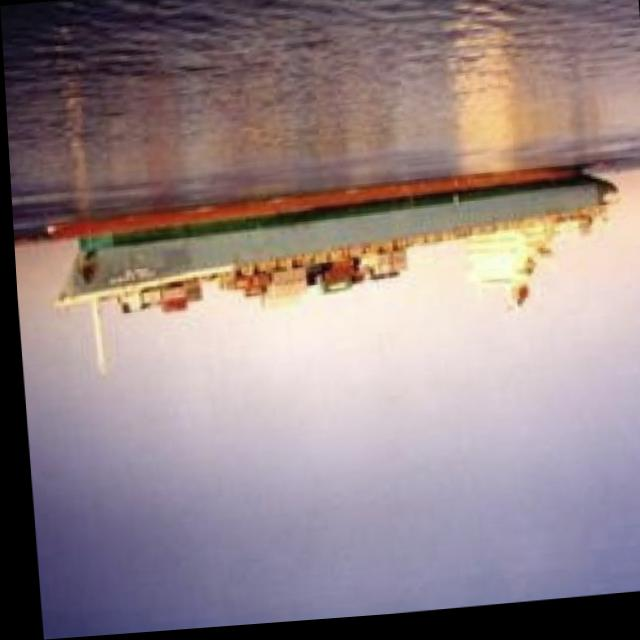ship2: (49, 175, 614, 381)
